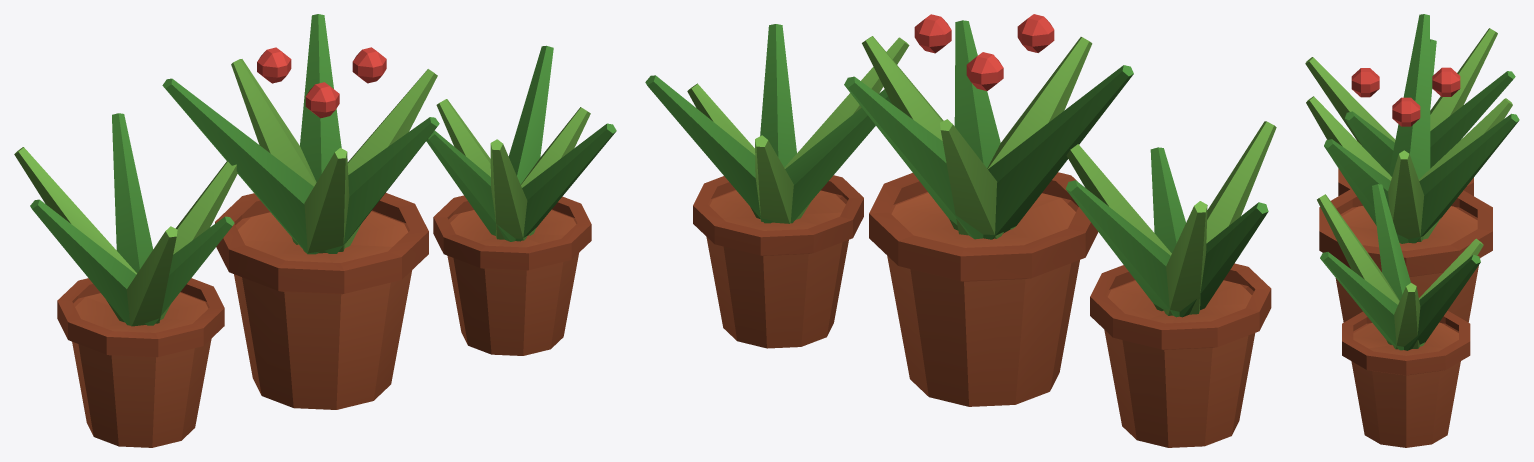
The model's file is pot_tanaman.glb.
The picture shows the model from 3 angles, left to right: view 1: azimuth 30°, elevation 25°; view 2: azimuth 150°, elevation 25°; view 3: azimuth 270°, elevation 25°; orthographic projection. The views are drawn at different scales.
Visible parts, largest first — view 1: pot_tanaman_mesh; view 2: pot_tanaman_mesh; view 3: pot_tanaman_mesh.
Part boxes in pixels (x1,y1,x2,y2): pot_tanaman_mesh: (14,14,616,447); pot_tanaman_mesh: (645,14,1276,447); pot_tanaman_mesh: (1305,14,1519,447).
Bounding box in the file's own units: 1.15 × 0.6598 × 0.4597.
